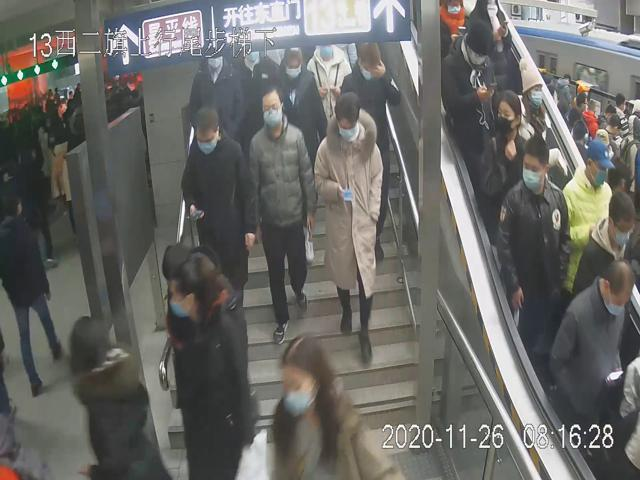person: (312, 89, 388, 368), (247, 83, 316, 341), (492, 139, 569, 360), (179, 104, 258, 314), (547, 253, 631, 447), (336, 44, 396, 266), (474, 86, 530, 227), (272, 40, 320, 150)
